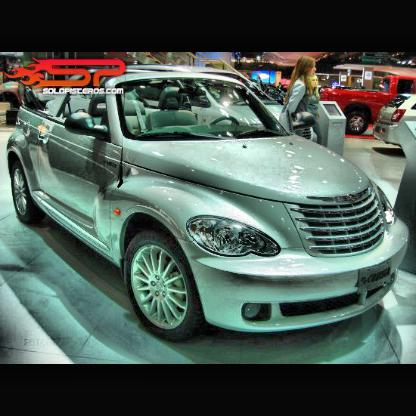Chrysler PT Cruiser Convertible 2008: (8, 67, 411, 344)
